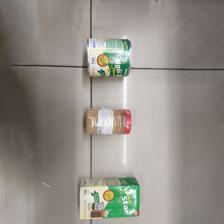Hao_hao: (84, 106, 134, 140)
NSPN_Hop: (77, 175, 143, 222)
NSPN_Lon: (85, 36, 133, 81)
